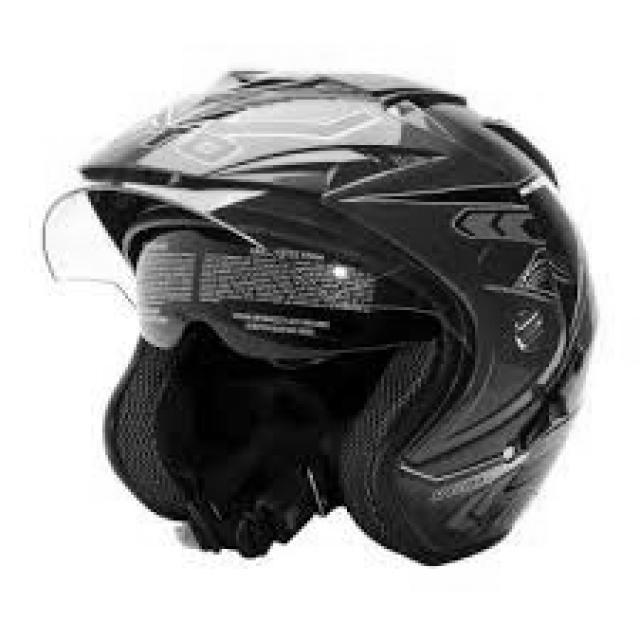Helmet: (46, 58, 604, 553)
